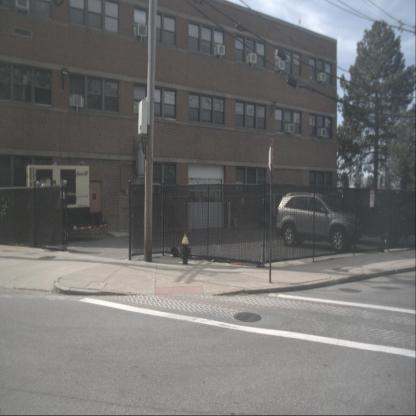vehicle-car: (275, 192, 363, 254)
